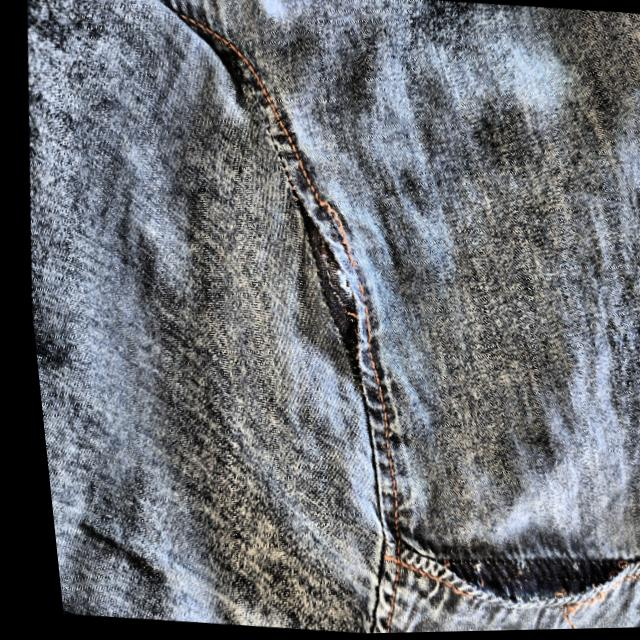seam: (250, 194, 388, 400), (406, 508, 631, 634)
